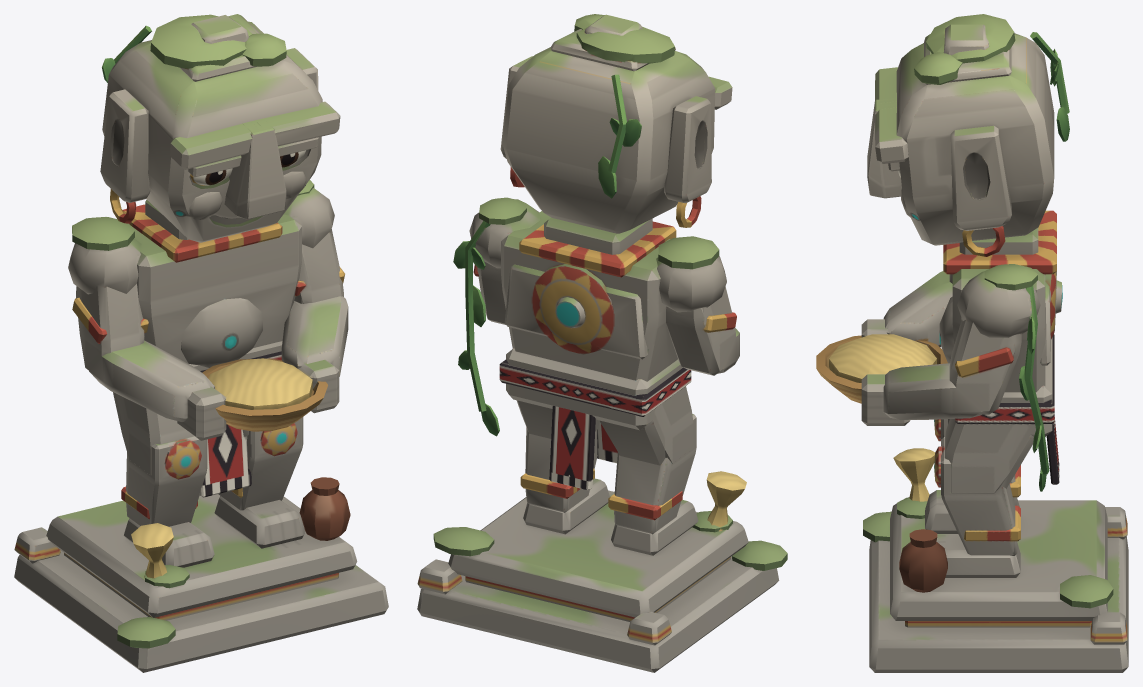
File: bulul_standing.glb
The picture shows the model from 3 angles, left to right: view 1: azimuth 30°, elevation 25°; view 2: azimuth 150°, elevation 25°; view 3: azimuth 270°, elevation 25°; orthographic projection. The views are drawn at different scales.
Parts seen in each view (by area): view 1: bulul_standing; view 2: bulul_standing; view 3: bulul_standing.
Boxes of the visible parts, x1,y1,x2,y2 form: bulul_standing: (14, 14, 388, 672); bulul_standing: (417, 14, 787, 672); bulul_standing: (816, 14, 1128, 672).
Bounding box in the file's own units: 4.15 × 8.6 × 4.18.
Materials: 1 (1 with a texture image).
